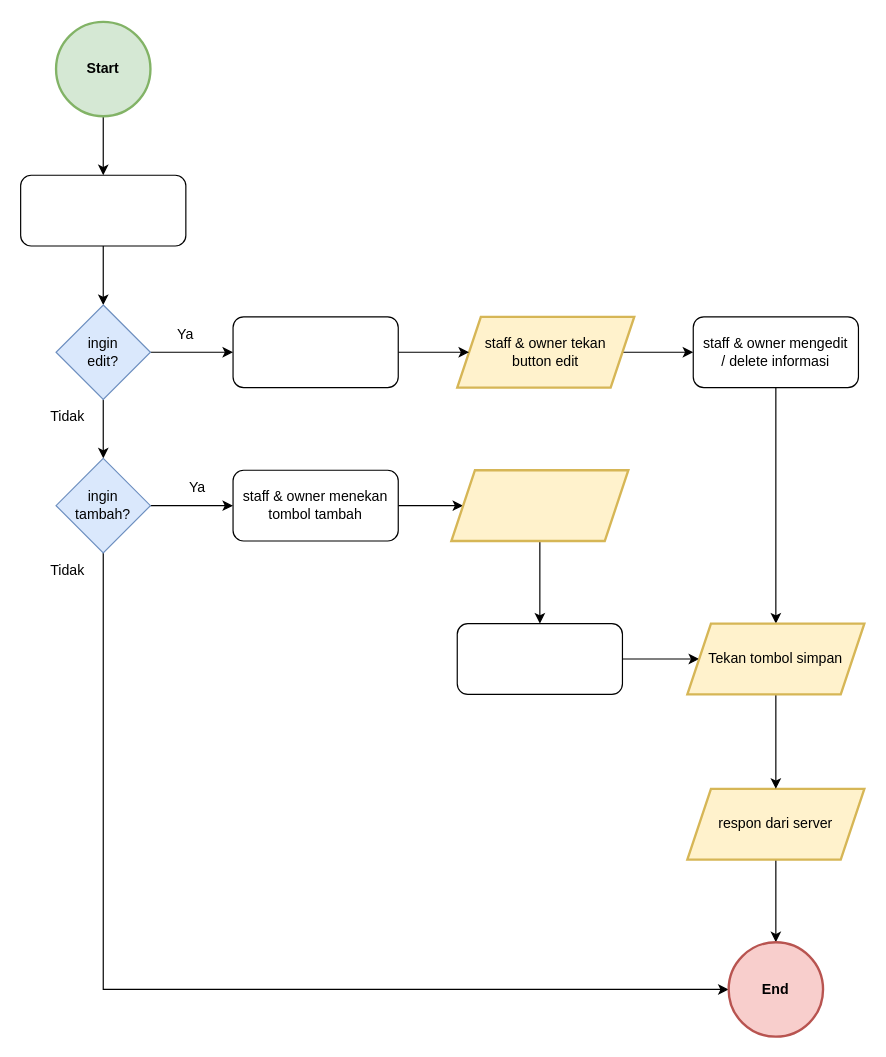
The diagram is 886 pixels wide and 1057 high, and some of its shapes have lost their labels. The centre of each missing label's shape, as x and y in pixels:
halaman formulir (masih kosong) untuk diisi informasi: the point at 539,505
staff & owner membuka halaman informasi: the point at 102,210
staff & owner membuka informasi yang ingin diedit: the point at 315,352
staff & owner mengisi halaman tersebut (text, foto, dll): the point at 539,658
